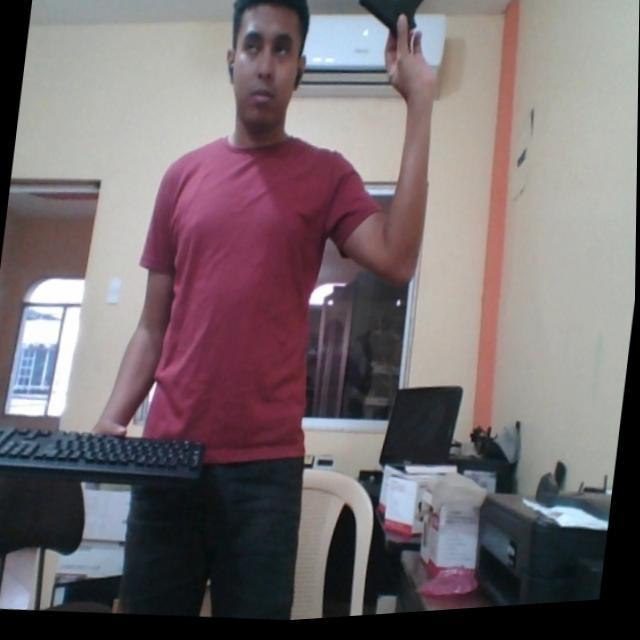weapon: (349, 0, 431, 58)
